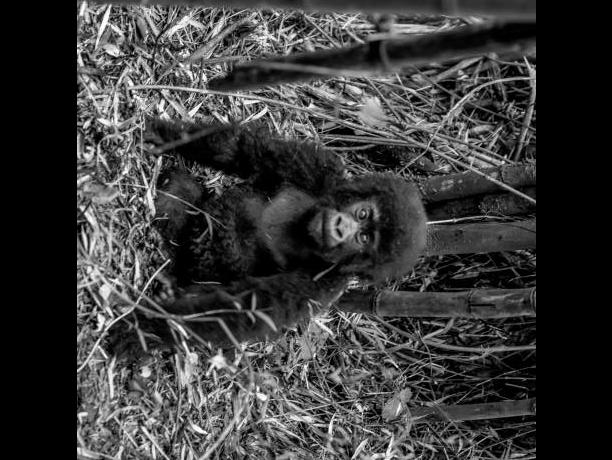goriile_montagne: (116, 125, 440, 398)
